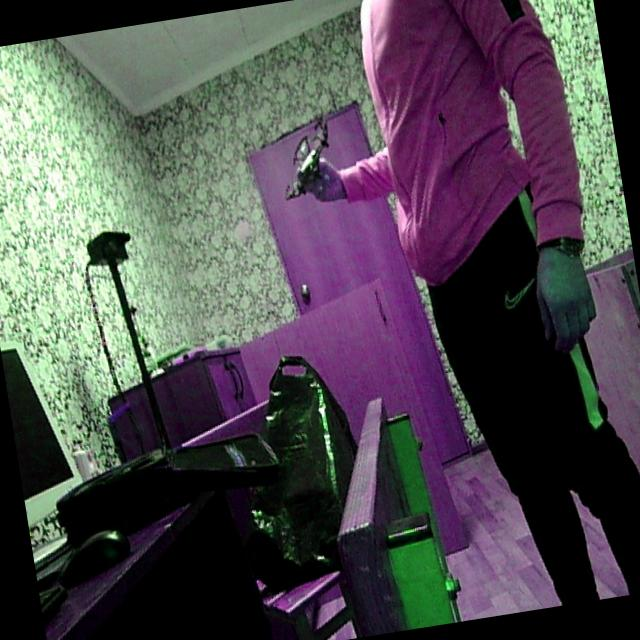drone: (268, 109, 344, 214)
